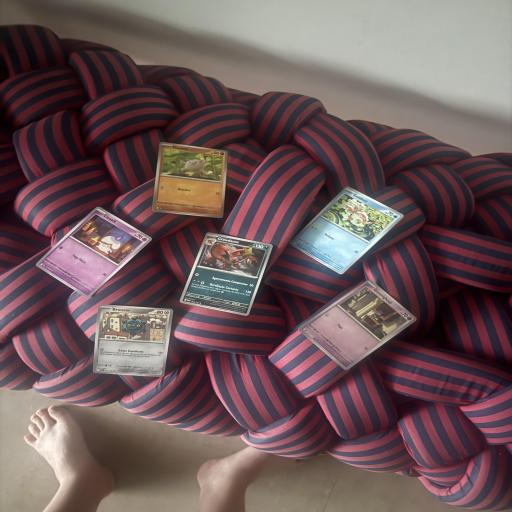card: (287, 171, 405, 289), (35, 193, 153, 310), (297, 269, 418, 380), (177, 229, 273, 318), (92, 303, 174, 380), (152, 141, 232, 219)
